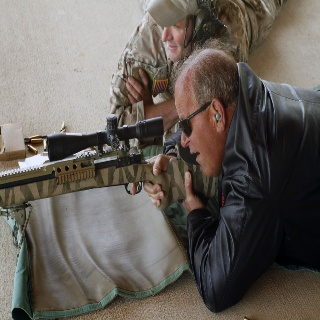rifle: (1, 112, 224, 211)
